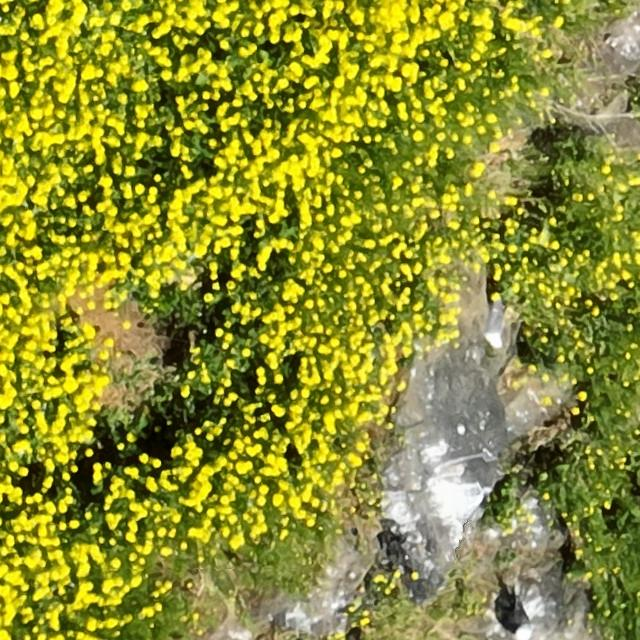umineko: (512, 600, 531, 638), (486, 302, 503, 343)
